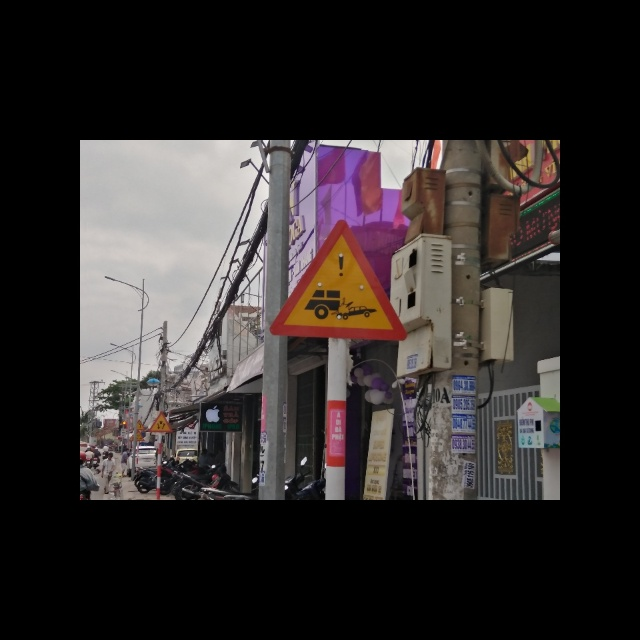Đoạn đường hay xảy ra tai nạn: (267, 219, 411, 341)
Đường đôi: (146, 410, 174, 434)
